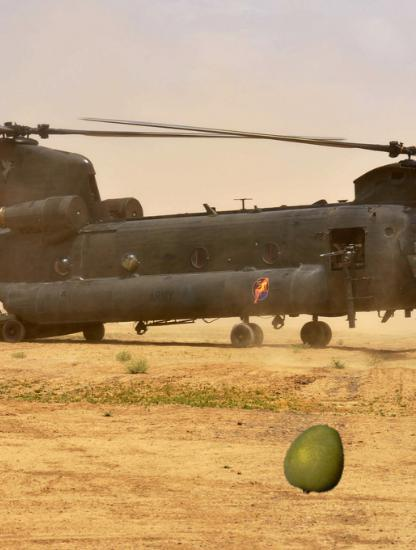Pear: (277, 417, 356, 496)
